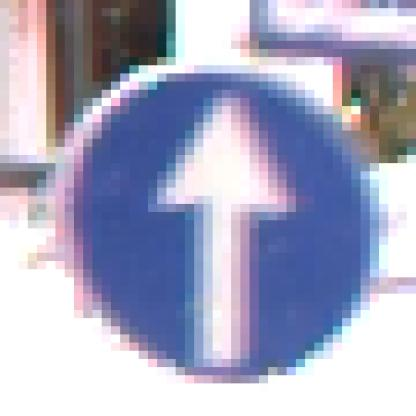AheadOnly: (47, 50, 362, 376)
